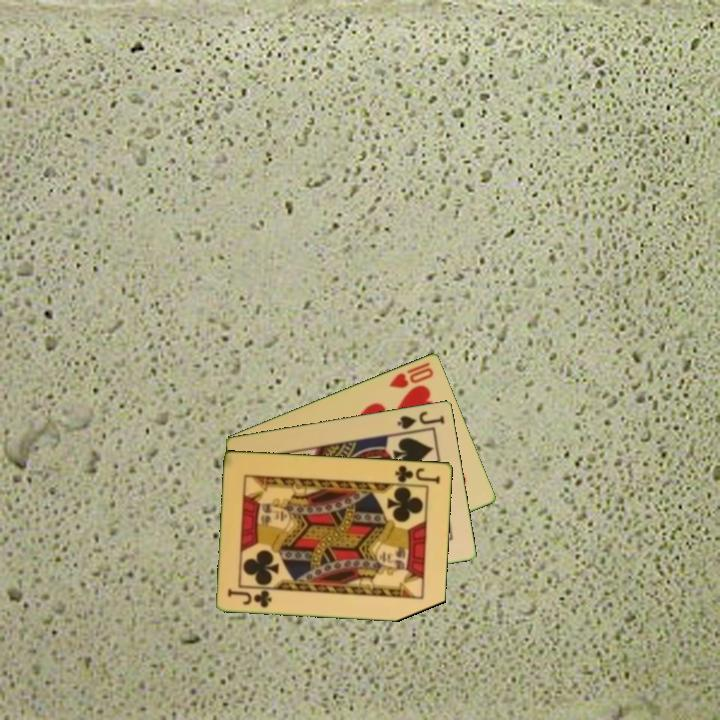10h: (385, 358, 437, 391)
Jc: (225, 585, 275, 610), (392, 462, 443, 486)
Js: (394, 407, 448, 432)
